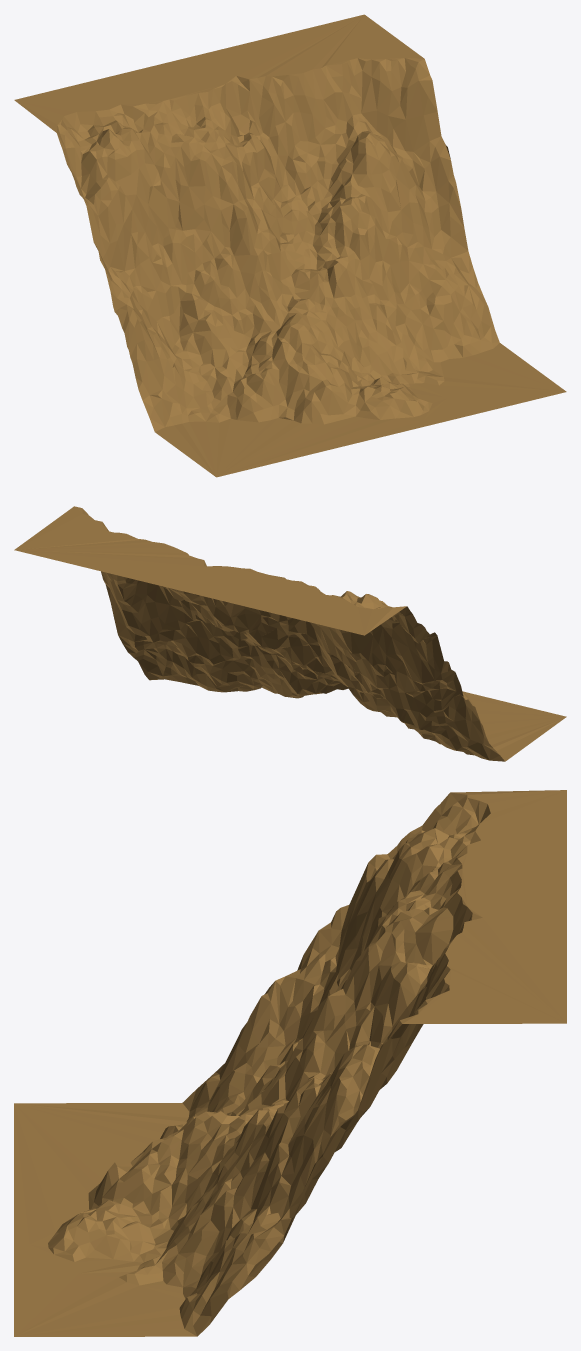
The model's file is DTTcliff.fbx.
3 views of the same model, one above another, from view 1: azimuth 30°, elevation 25°; view 2: azimuth 150°, elevation 25°; view 3: azimuth 270°, elevation 25° (orthographic). The views are drawn at different scales.
Visible parts, largest first — view 1: Landscape; view 2: Landscape; view 3: Landscape.
Boxes of the visible parts, left/top/right/bottom form: Landscape: left=14, top=14, right=566, bottom=477; Landscape: left=14, top=506, right=566, bottom=761; Landscape: left=14, top=790, right=566, bottom=1336.
Bounding box in the file's own units: 200 × 125 × 200.
